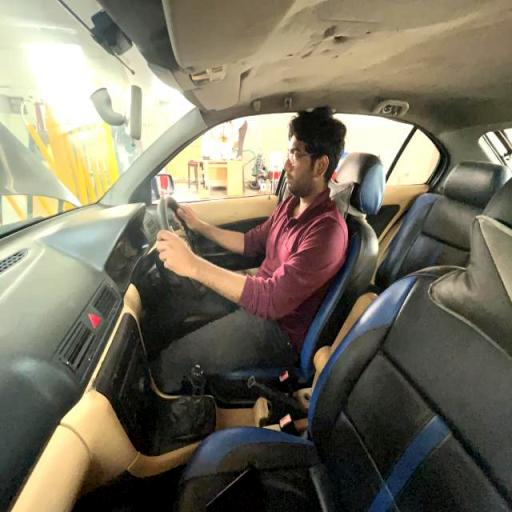Normal: (131, 98, 348, 381)
